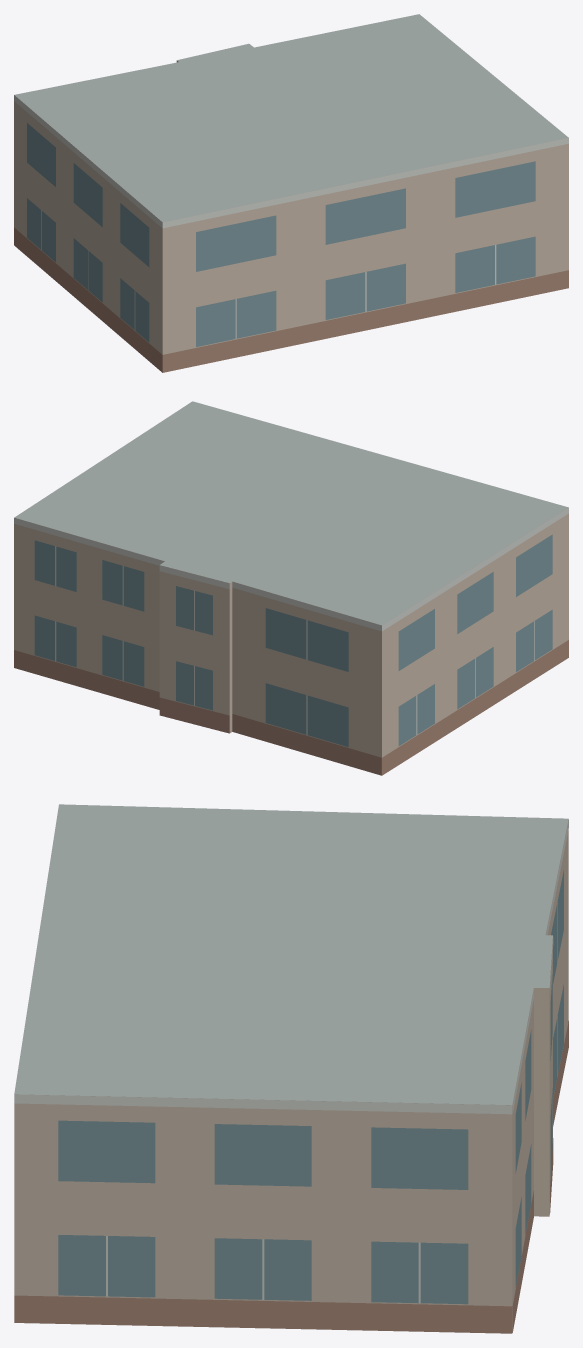
The model's file is survey-upis-32829747.glb.
3 views of the same model, one above another, from view 1: azimuth 30°, elevation 25°; view 2: azimuth 150°, elevation 25°; view 3: azimuth 270°, elevation 25° (orthographic). The views are drawn at different scales.
Visible parts, largest first — view 1: survey-upis-32829747.tmp; view 2: survey-upis-32829747.tmp; view 3: survey-upis-32829747.tmp.
Part boxes in pixels (left/top/right/bottom): survey-upis-32829747.tmp: left=14, top=14, right=568, bottom=372; survey-upis-32829747.tmp: left=14, top=401, right=568, bottom=775; survey-upis-32829747.tmp: left=14, top=804, right=568, bottom=1333.
Size of the model in its own units: 17.24 by 6.1 by 13.43.
